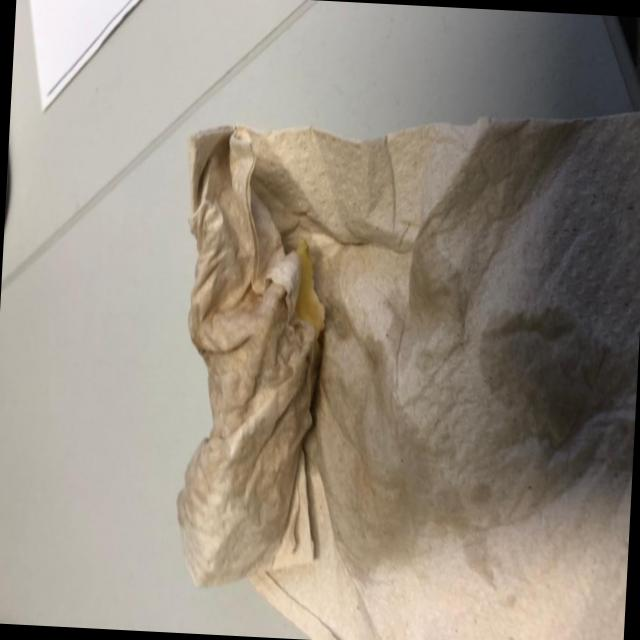organic waste: (162, 76, 640, 640)
